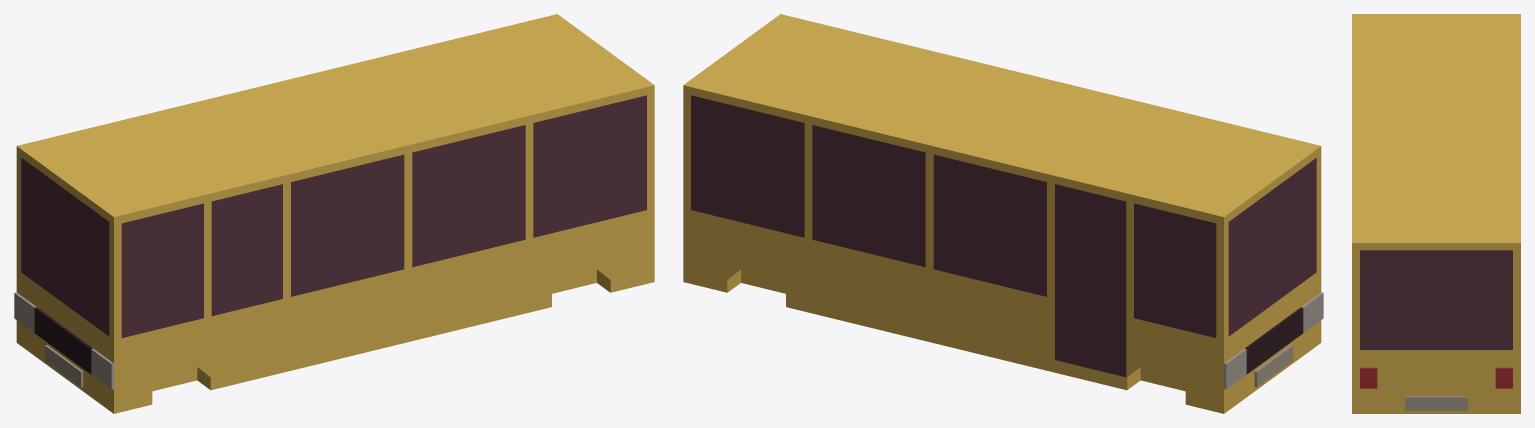
File: Bus_Yellow.fbx
3 views of the same model, side by side, from view 1: azimuth 30°, elevation 25°; view 2: azimuth 150°, elevation 25°; view 3: azimuth 270°, elevation 25° (orthographic). The views are drawn at different scales.
Visible parts, largest first — view 1: Bus_Yellow, Bus_Lights; view 2: Bus_Yellow, Bus_Lights; view 3: Bus_Yellow, Bus_Lights.
Boxes of the visible parts, left/top/right/bottom form: Bus_Yellow: left=16, top=14, right=654, bottom=413; Bus_Lights: left=14, top=292, right=113, bottom=389; Bus_Yellow: left=683, top=14, right=1321, bottom=413; Bus_Lights: left=1224, top=292, right=1323, bottom=389; Bus_Yellow: left=1352, top=14, right=1520, bottom=413; Bus_Lights: left=1360, top=367, right=1512, bottom=388.
Bounding box in the file's own units: 6.96 × 2.4 × 2.15.
